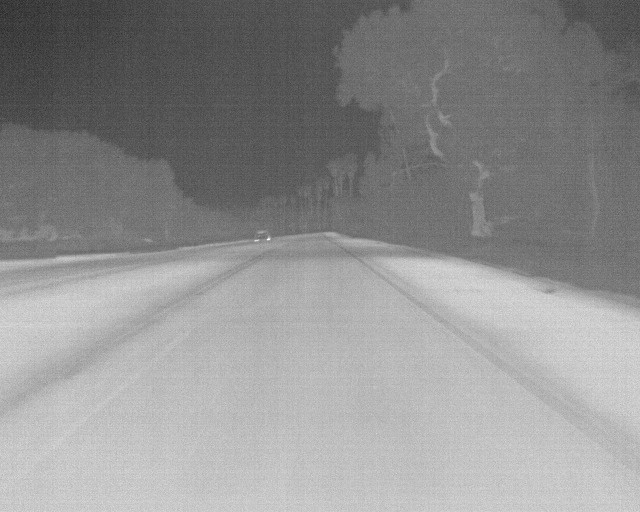vehicle: (253, 225, 272, 246)
